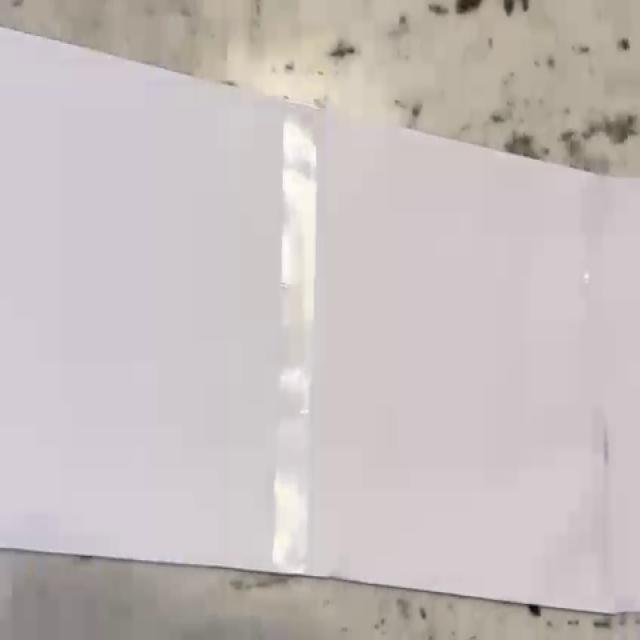road: (0, 27, 640, 612)
